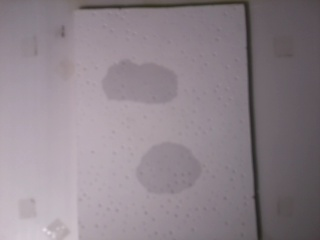Water_detected: (109, 63, 177, 107), (143, 149, 194, 193)
